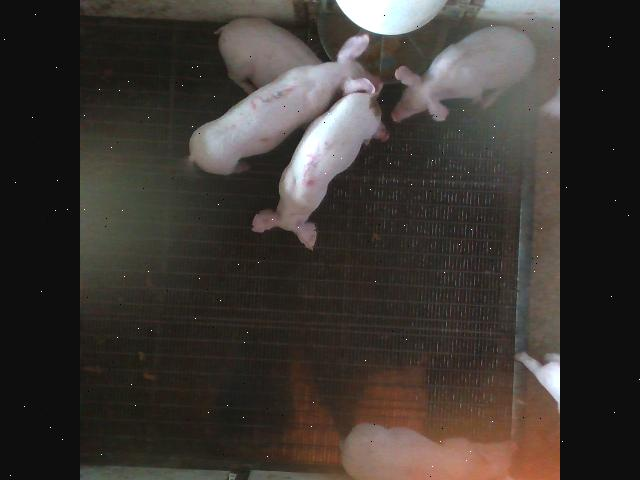pig-3: (189, 36, 379, 174)
pig-5: (251, 91, 384, 249)
